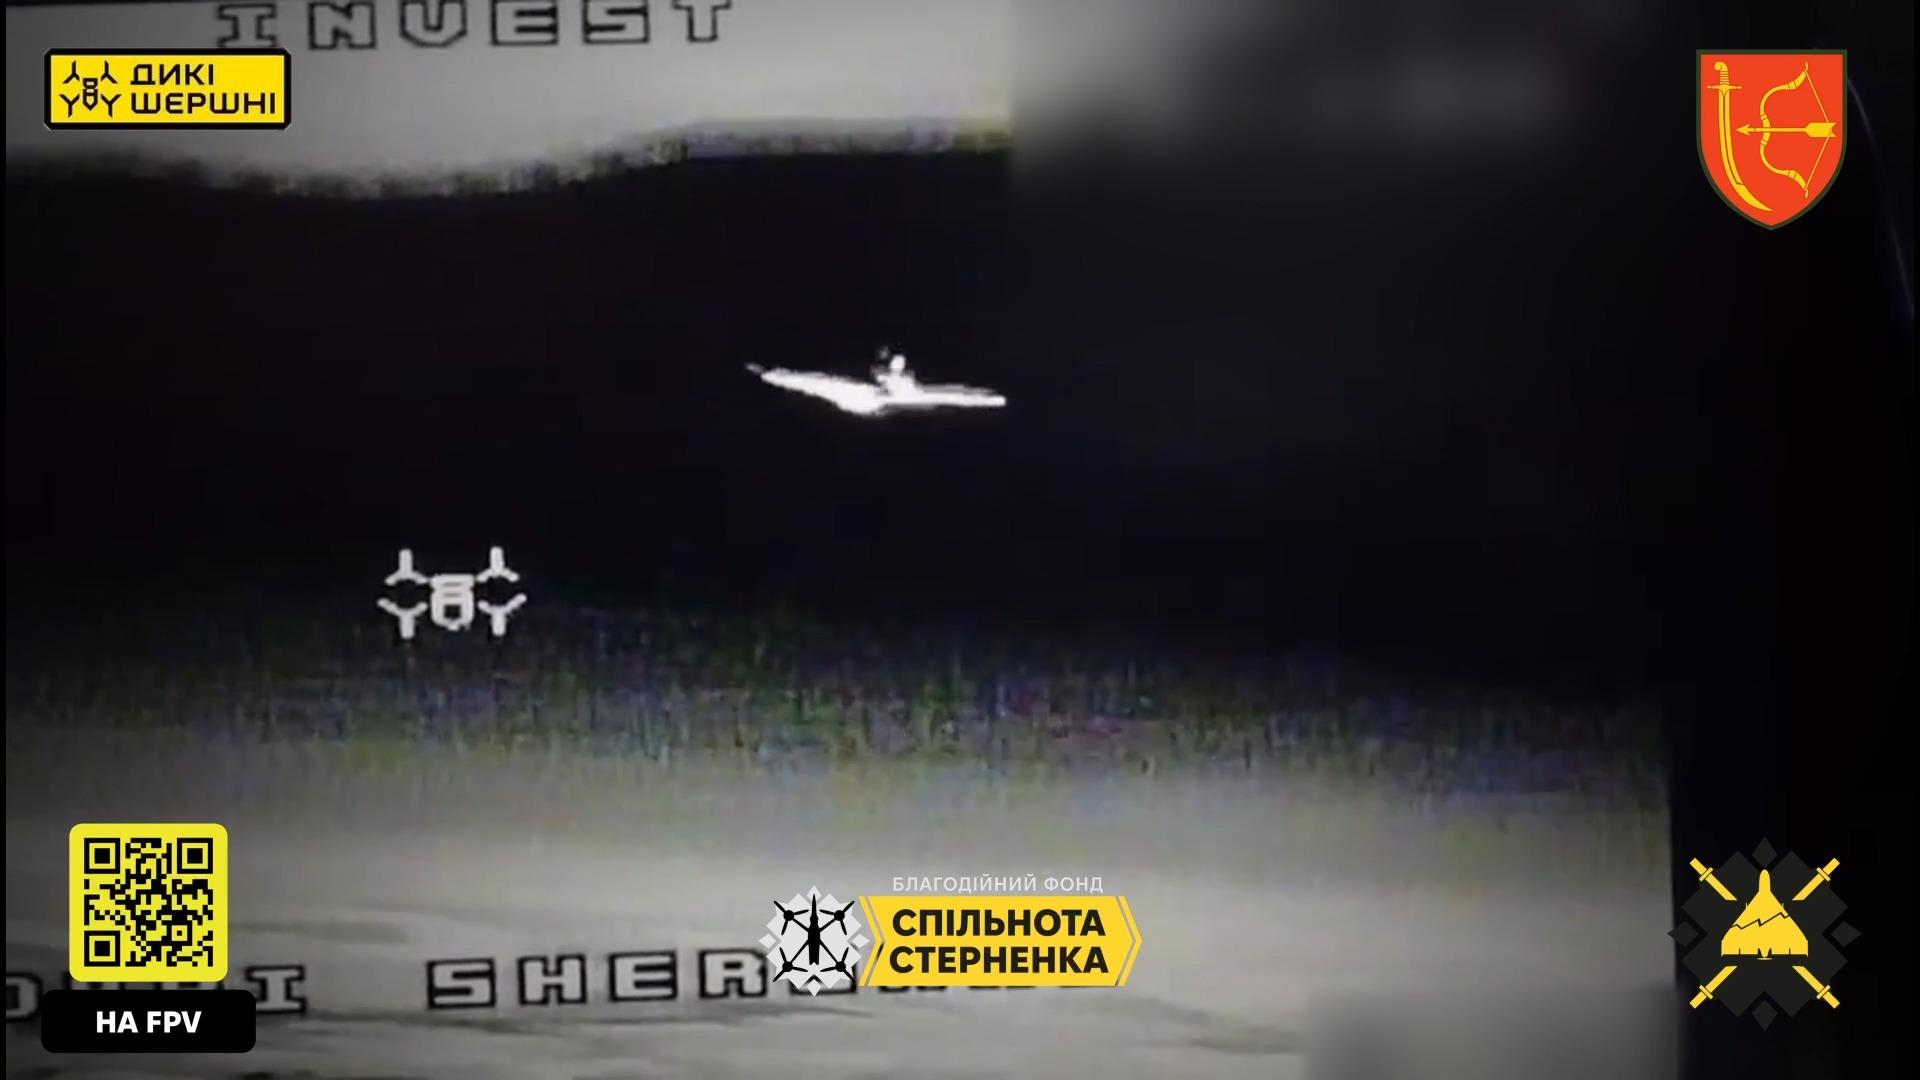Gerbera: (744, 348, 1009, 418)
